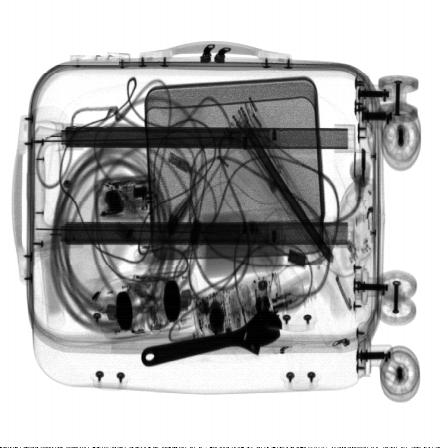Wrench: (140, 309, 283, 367)
